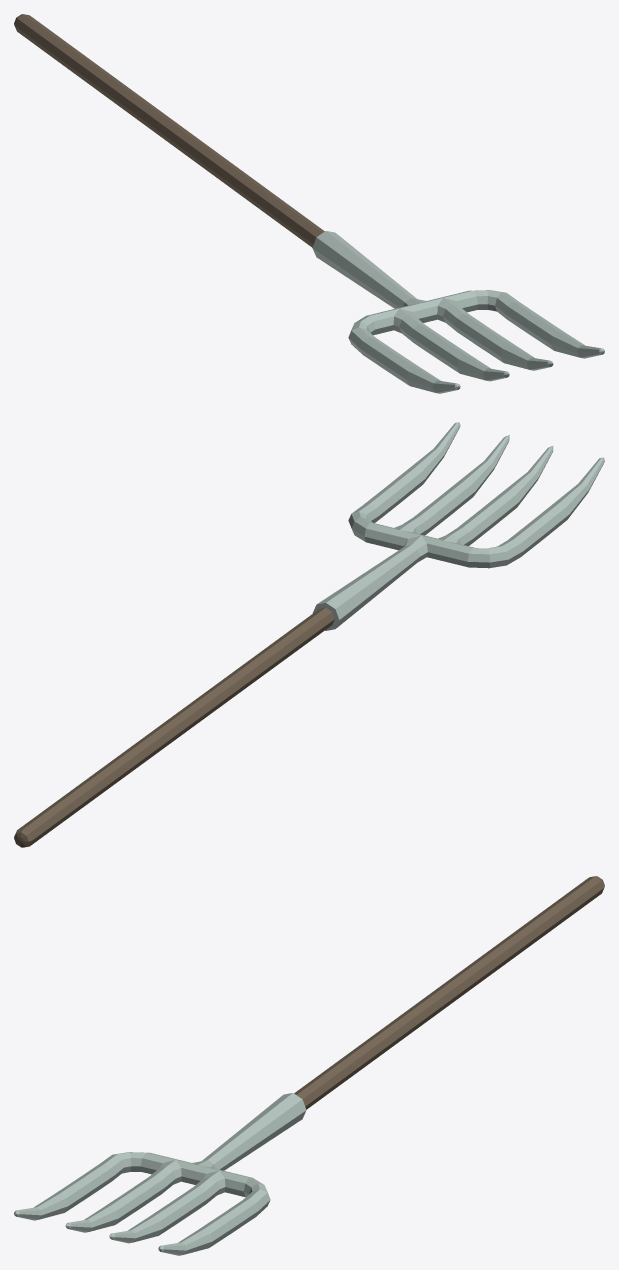
Rendered from pitchfork.fbx.
3 renders of one model, top to bottom at view 1: azimuth 30°, elevation 25°; view 2: azimuth 150°, elevation 25°; view 3: azimuth 330°, elevation 25°, orthographic.
Parts seen in each view (by area): view 1: PitchFork; view 2: PitchFork; view 3: PitchFork.
Part boxes in pixels (x1,y1,x2,y2): PitchFork: (14, 14, 604, 393); PitchFork: (14, 422, 604, 847); PitchFork: (14, 876, 604, 1255).
Bounding box in the file's own units: 34.11 × 8.37 × 185.
